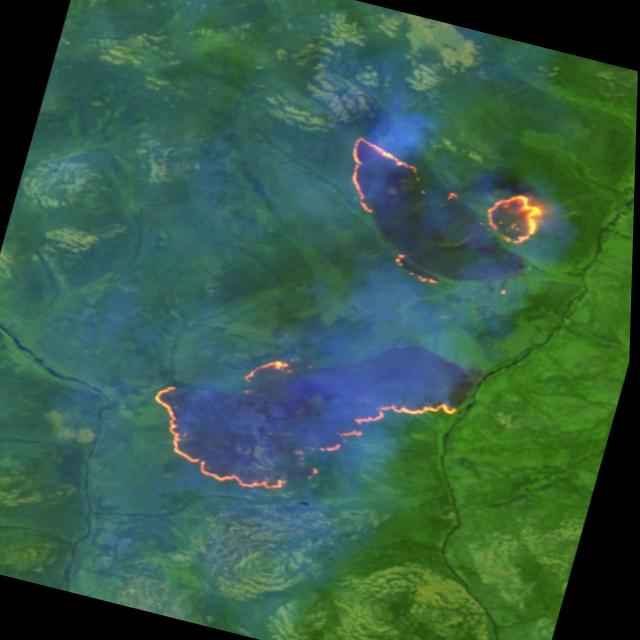fire: (130, 326, 474, 540), (317, 132, 562, 310)
